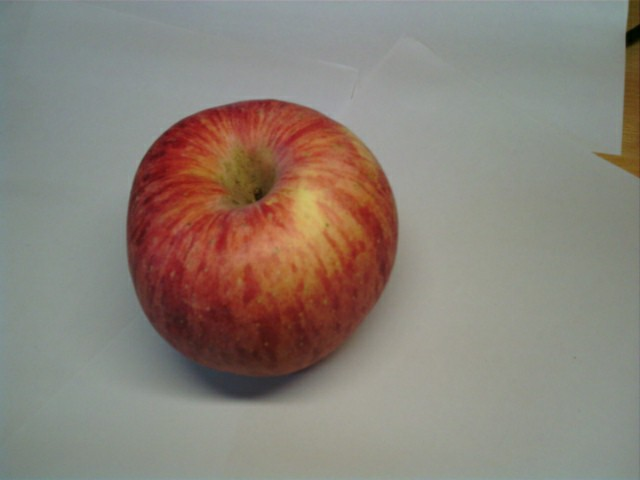normal_apple: (125, 97, 399, 384)
